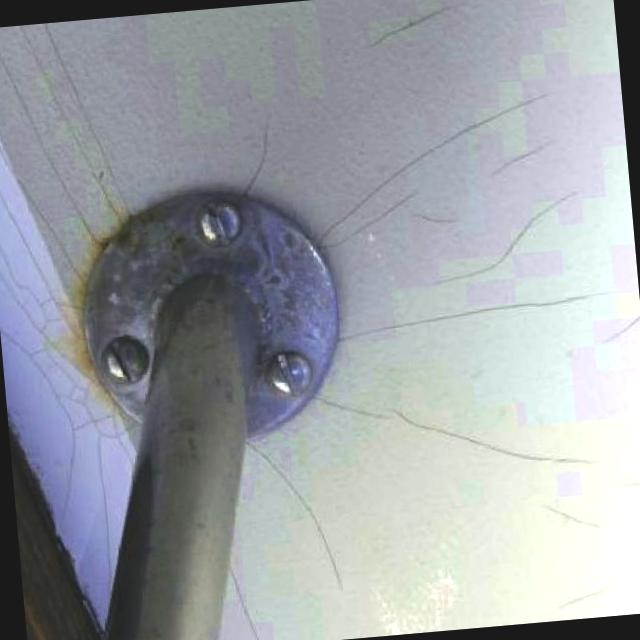crack: (310, 66, 566, 234), (382, 380, 598, 480), (403, 188, 595, 290), (248, 439, 362, 598), (340, 287, 610, 350), (462, 134, 563, 196), (359, 0, 448, 67), (226, 106, 284, 195), (400, 187, 470, 234)
